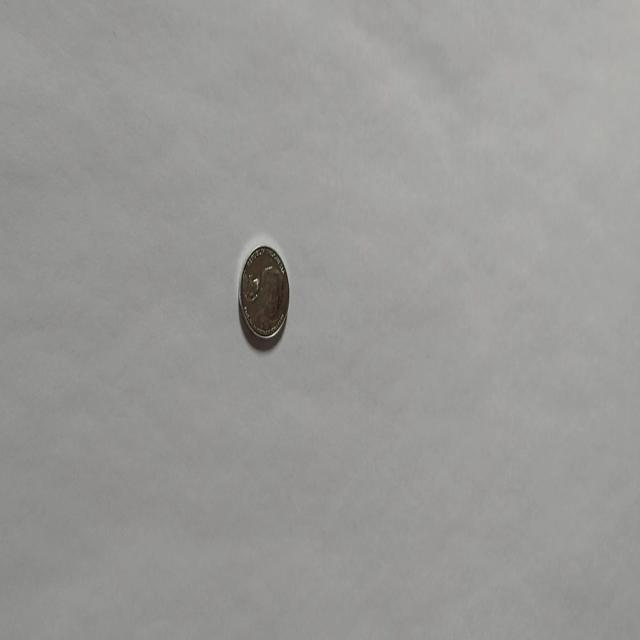seratus rupiah: (238, 244, 290, 342)
